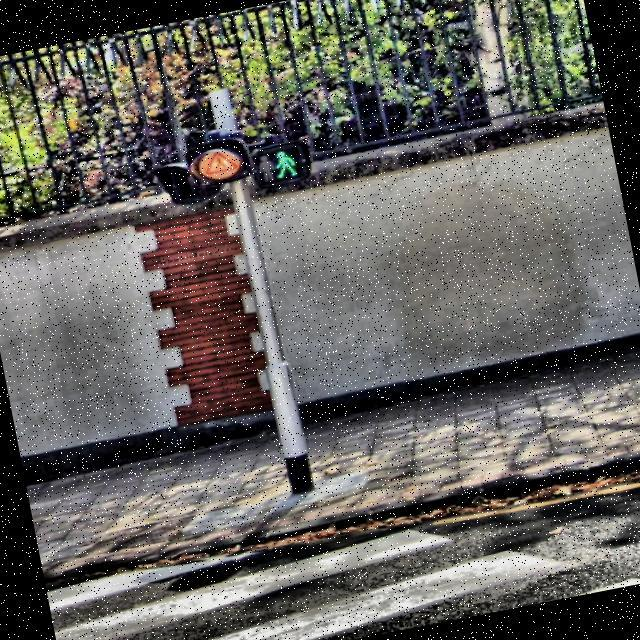green_light: (266, 144, 302, 182)
